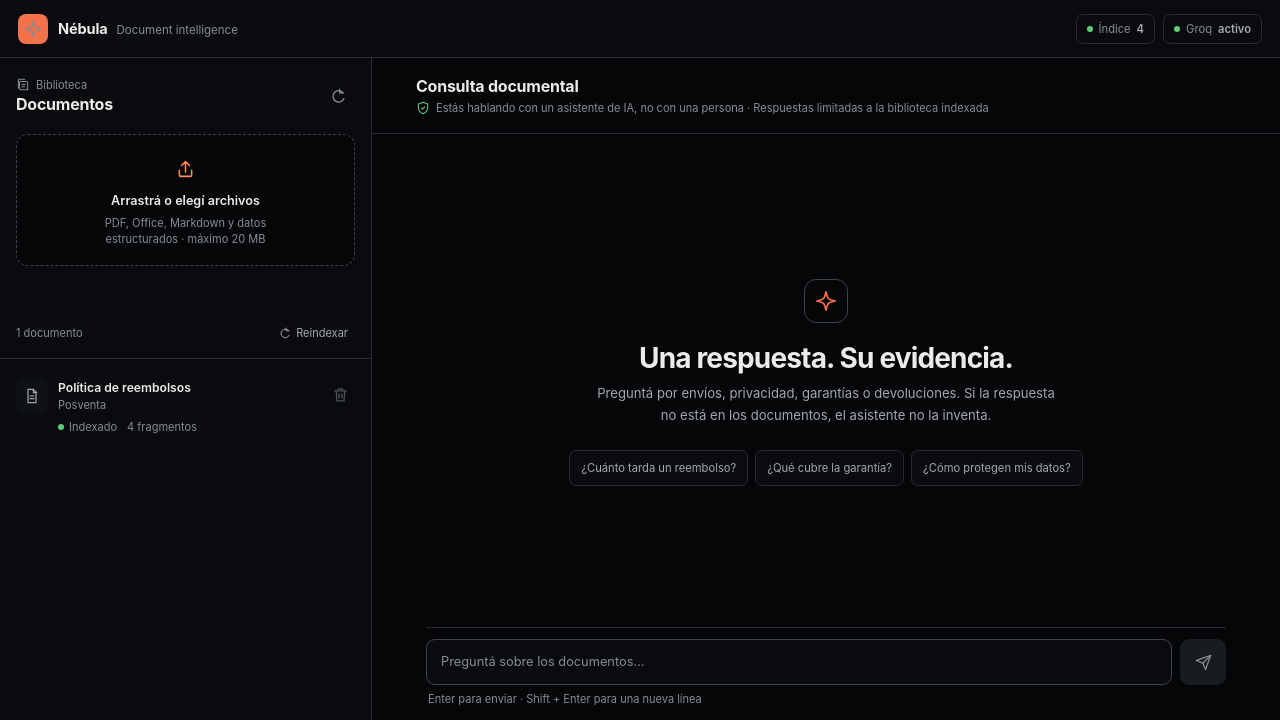
Test: Nébula RAG workspace › shows stable provider errors returned by the backend
The image size is (1280, 720).
Type "¿Cuál es la garantía?" into the text box named "Escribí tu pregunta" at (799, 662), box [426,639,1172,685]
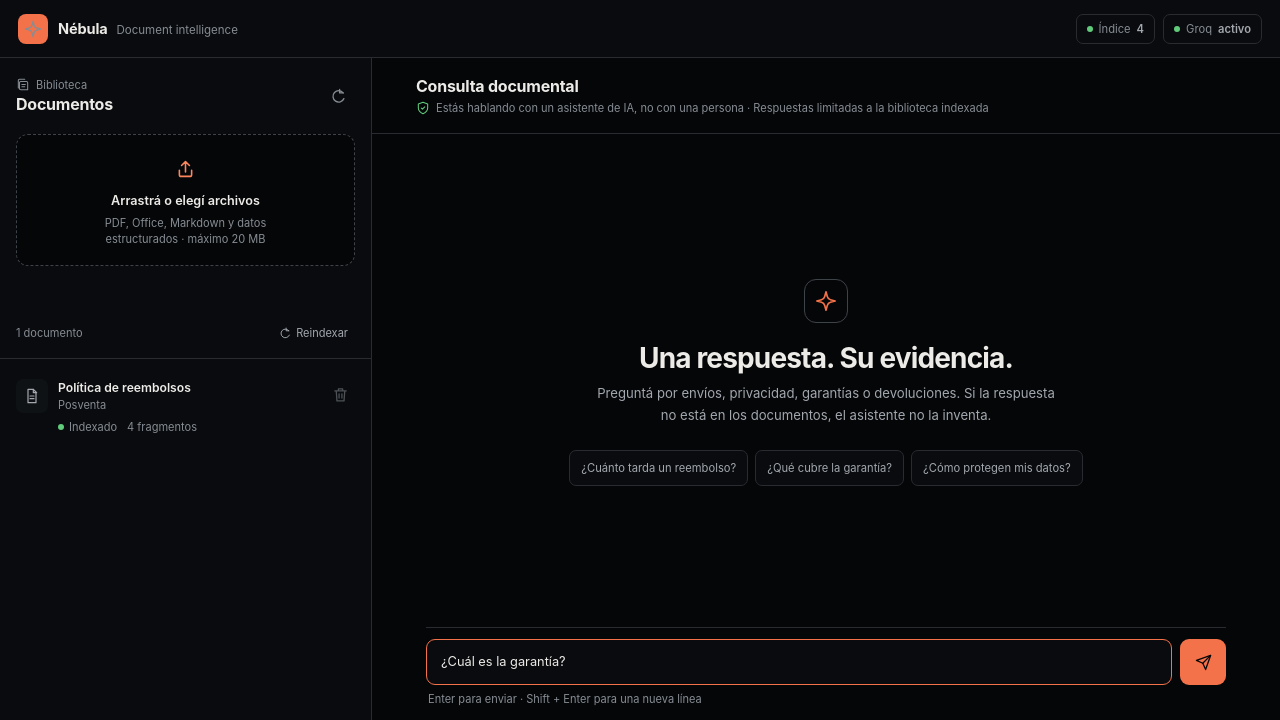
Press Enter
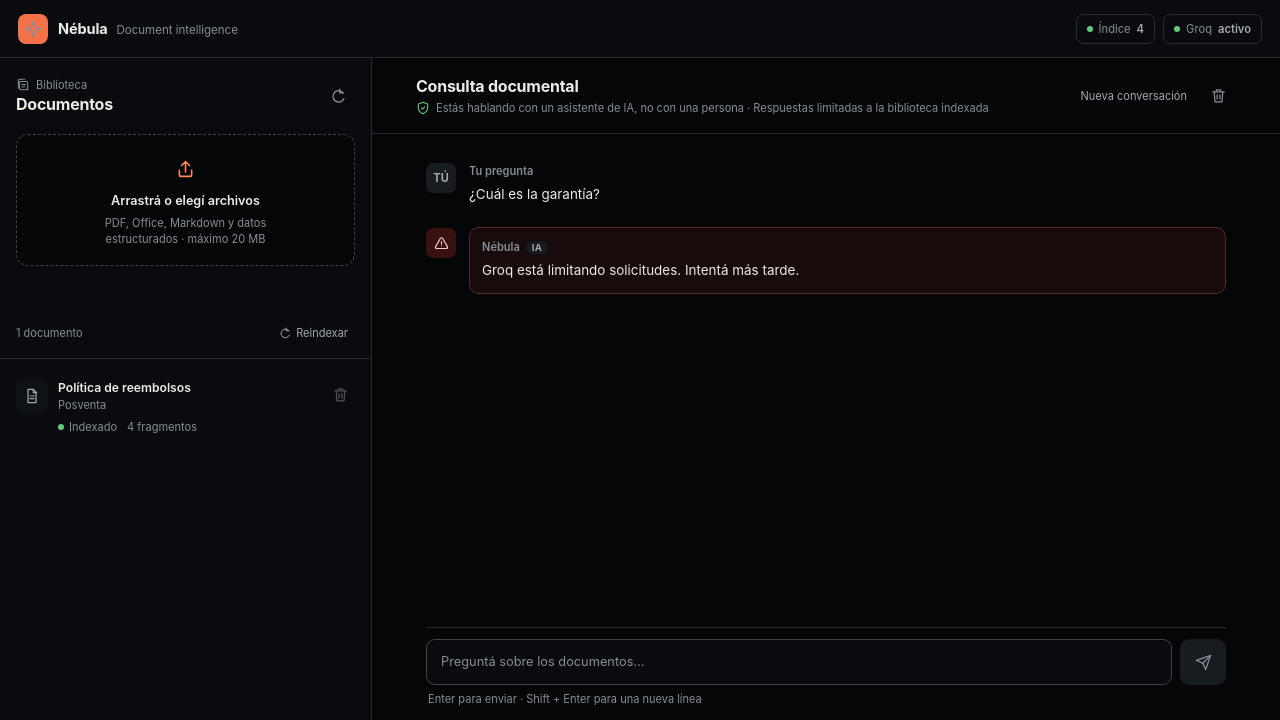
Now the text "Groq está limitando solicitudes. Intentá más tarde." is shown, box [482,262,799,278]
